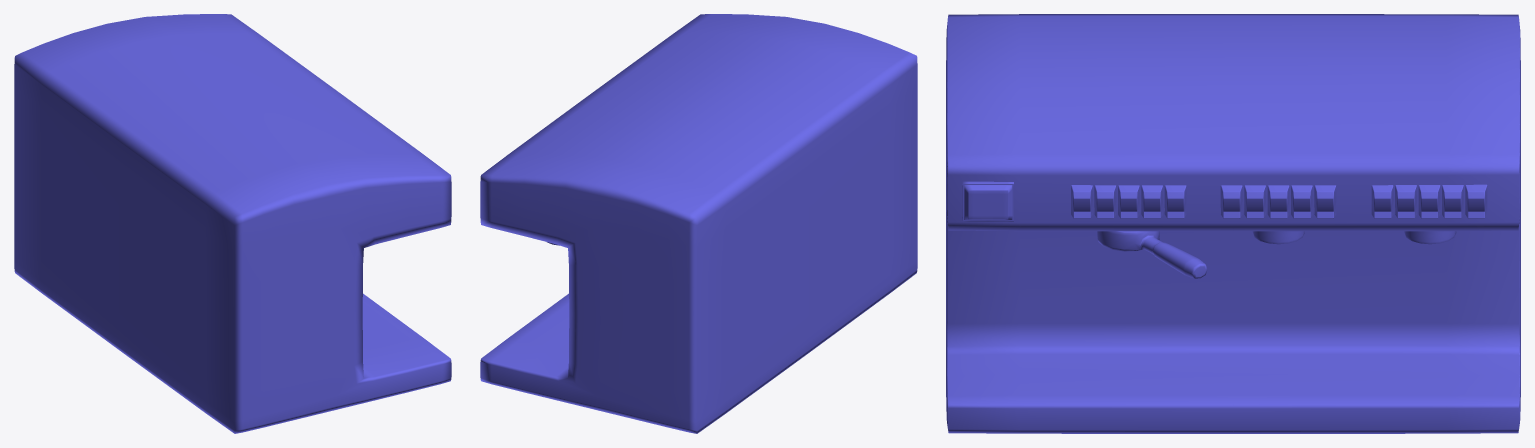
Rendered from CoffeeMachine.fbx.
The picture shows the model from 3 angles, left to right: view 1: azimuth 30°, elevation 25°; view 2: azimuth 150°, elevation 25°; view 3: azimuth 270°, elevation 25°; orthographic projection. The views are drawn at different scales.
Visible parts, largest first — view 1: CoffeeMachine01; view 2: CoffeeMachine01; view 3: CoffeeMachine01.
Boxes of the visible parts, <box> form: CoffeeMachine01: <box>14,14,451,433</box>; CoffeeMachine01: <box>480,14,917,433</box>; CoffeeMachine01: <box>946,14,1520,433</box>.
Bounding box in the file's own units: 49.44 × 46.02 × 80.5.
